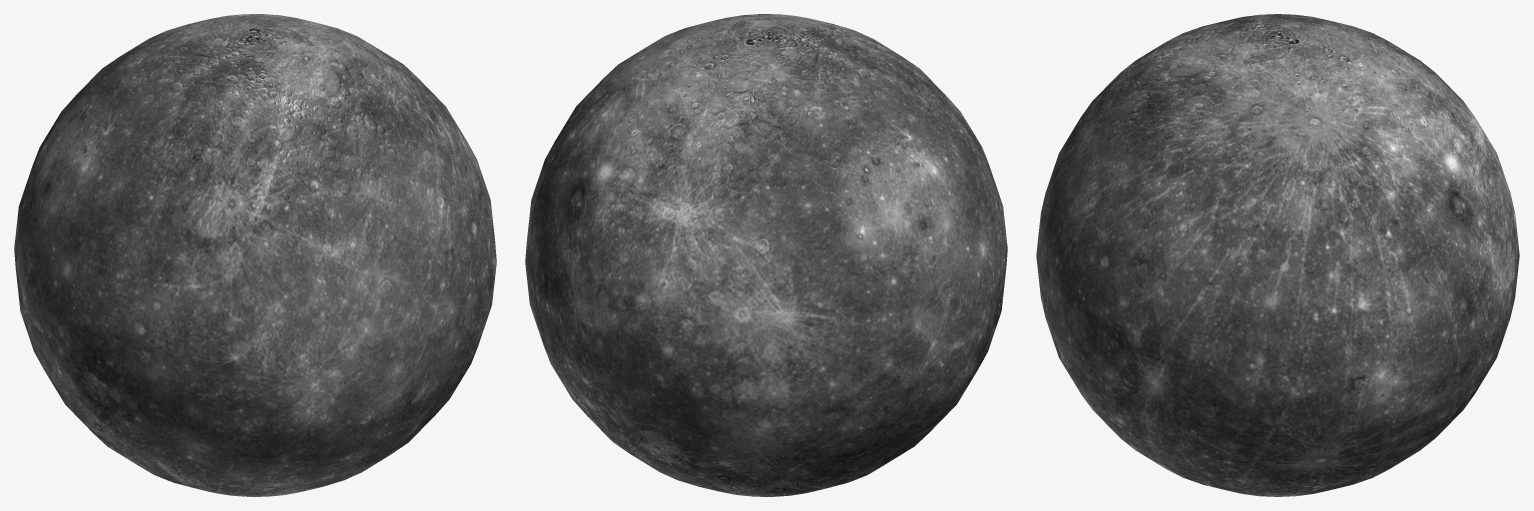
File: Merkurius.glb
3 renders of one model, left to right at view 1: azimuth 30°, elevation 25°; view 2: azimuth 150°, elevation 25°; view 3: azimuth 270°, elevation 25°, orthographic.
Parts seen in each view (by area): view 1: Object_2; view 2: Object_2; view 3: Object_2.
Part boxes in pixels (x1,y1,x2,y2): Object_2: (14, 14, 496, 496); Object_2: (525, 14, 1007, 496); Object_2: (1036, 14, 1519, 496).
Bounding box in the file's own units: 0.1785 × 0.1785 × 0.1785.
1 material, 1 textured.
